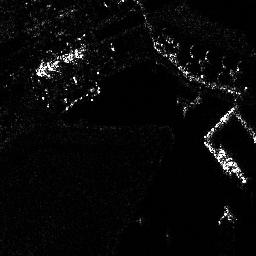ship: (215, 148, 247, 184)
